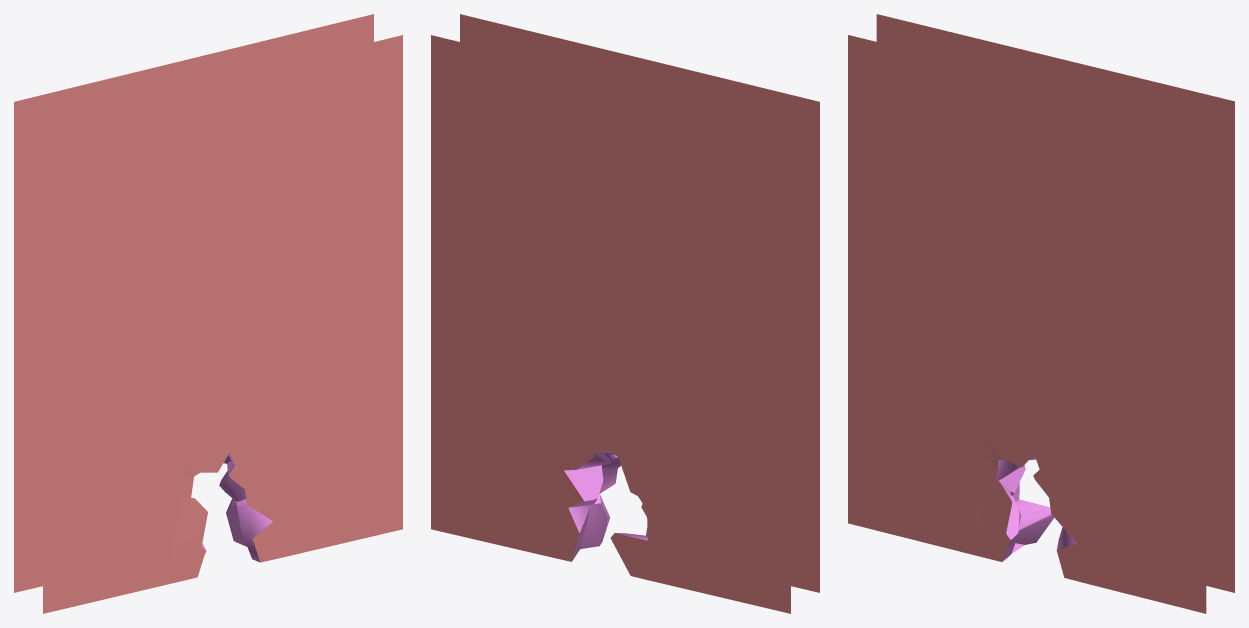
The model's file is EntryTomb.FBX.
3 renders of one model, left to right at view 1: azimuth 30°, elevation 25°; view 2: azimuth 150°, elevation 25°; view 3: azimuth 330°, elevation 25°, orthographic.
Visible parts, largest first — view 1: Entry; view 2: Entry; view 3: Entry.
Part boxes in pixels (<box>): Entry: <box>14,14,402,613</box>; Entry: <box>431,14,819,613</box>; Entry: <box>848,14,1234,613</box>.
Bounding box in the file's own units: 1035 × 1357 × 144.
